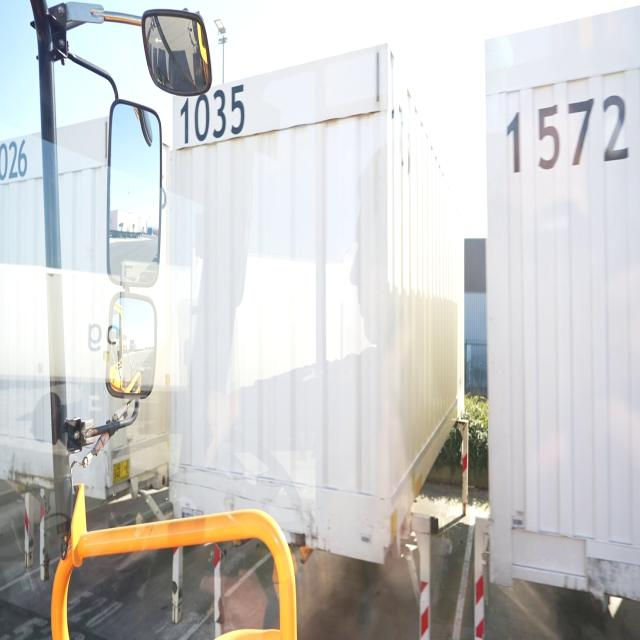Code: (503, 91, 636, 179), (180, 80, 252, 162)
